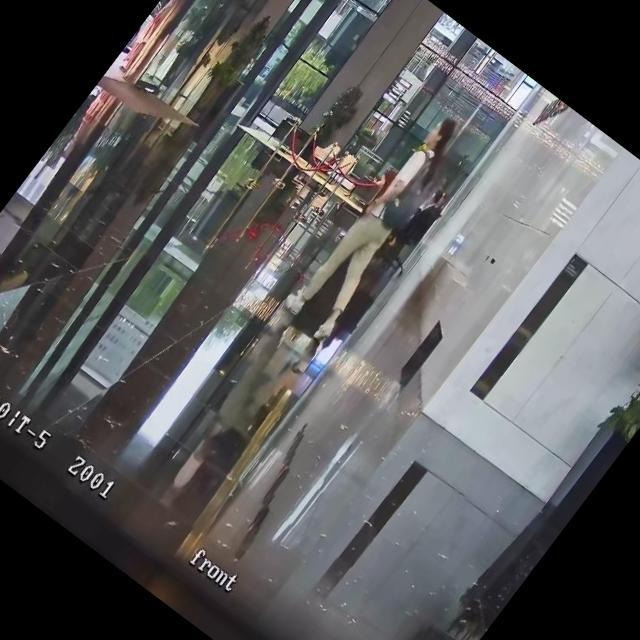person: (275, 102, 480, 348), (116, 0, 185, 75), (142, 4, 204, 82), (400, 188, 454, 250), (342, 158, 391, 211)
